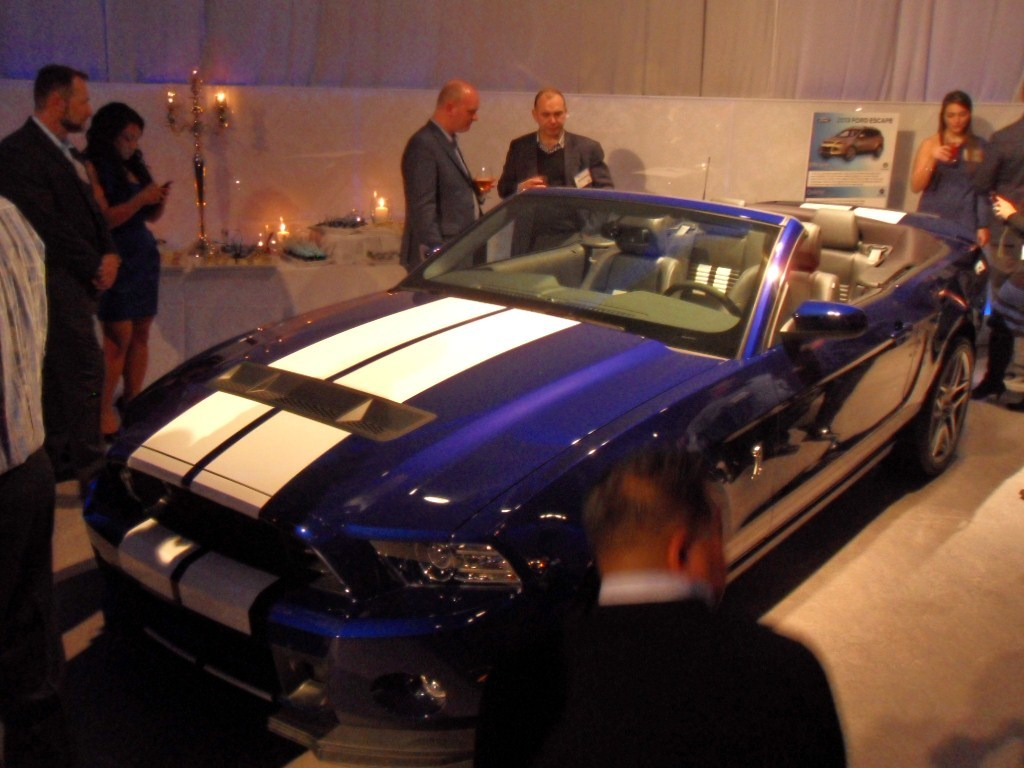Car: (71, 180, 993, 767), (819, 124, 888, 166)
